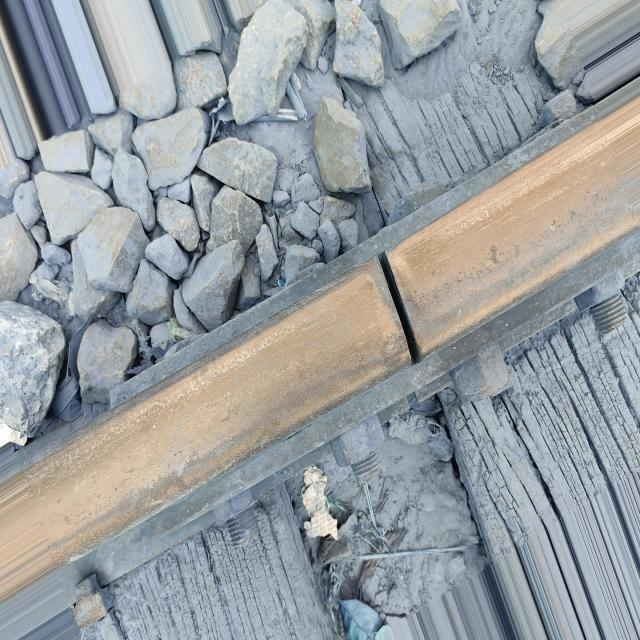crack: (362, 235, 432, 379)
